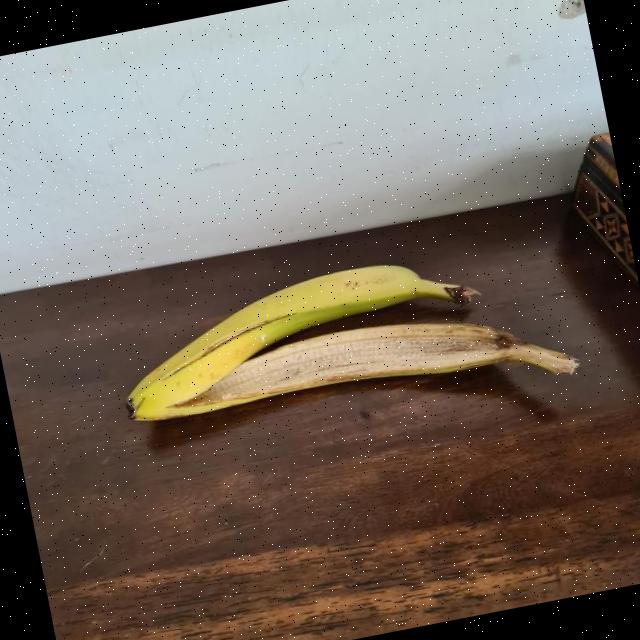banana-peel: (107, 243, 493, 427)
